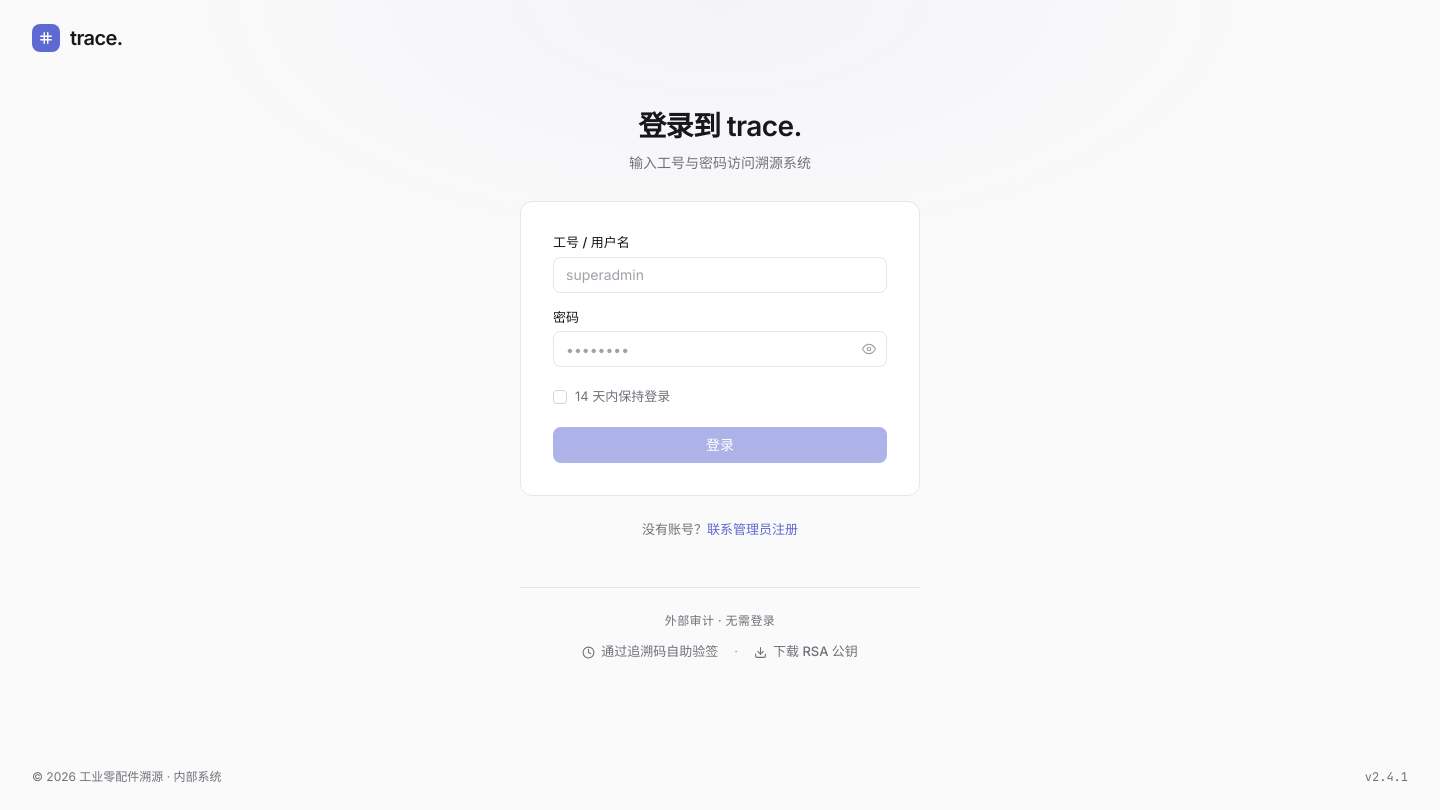
Scenario: Login view › shows inline error feedback when login fails
In the field labelled "工号 / 用户名": (720, 274) [554,258,886,292], type "admin"
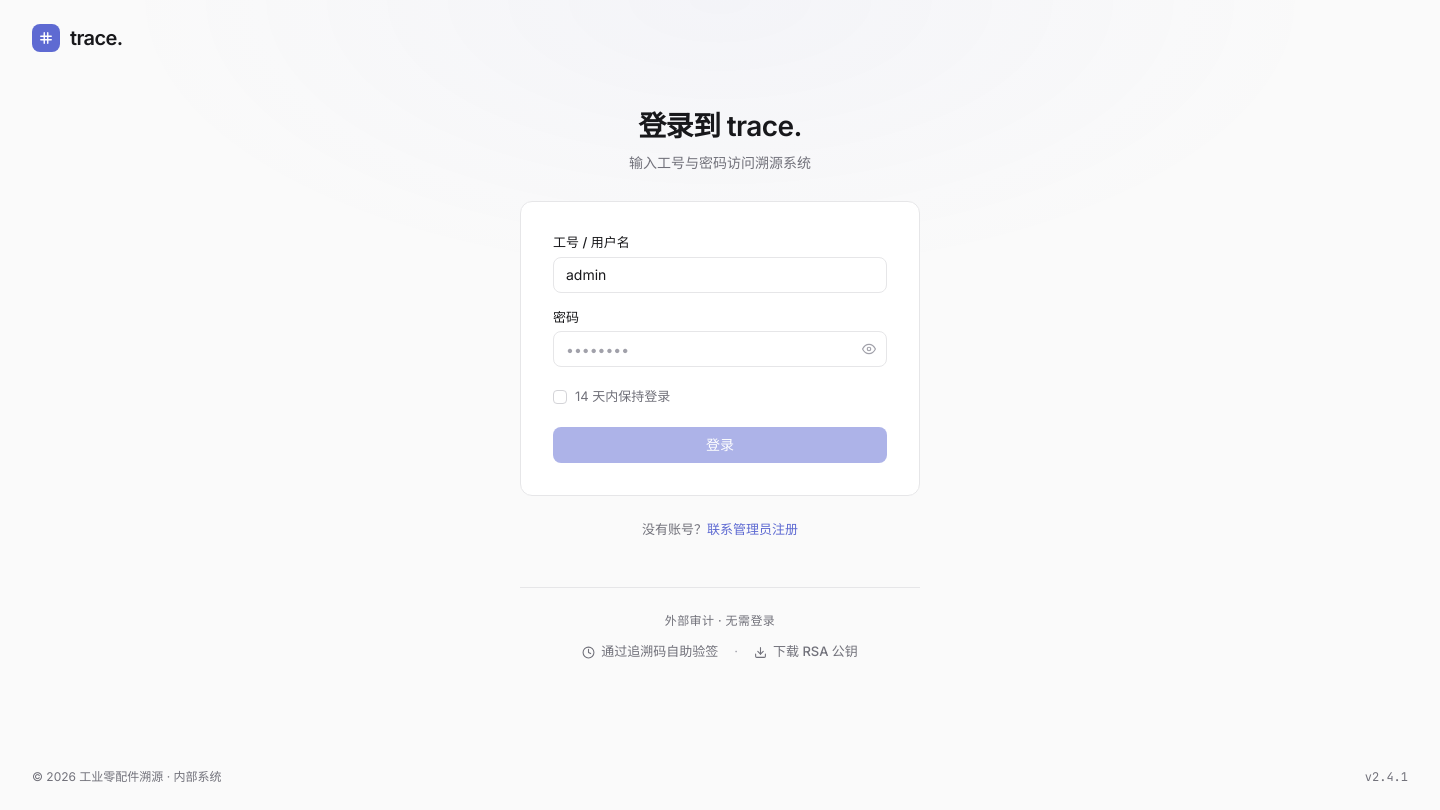
In the password field labelled "密码": (706, 349) [554,332,858,366], type "bad-pass"
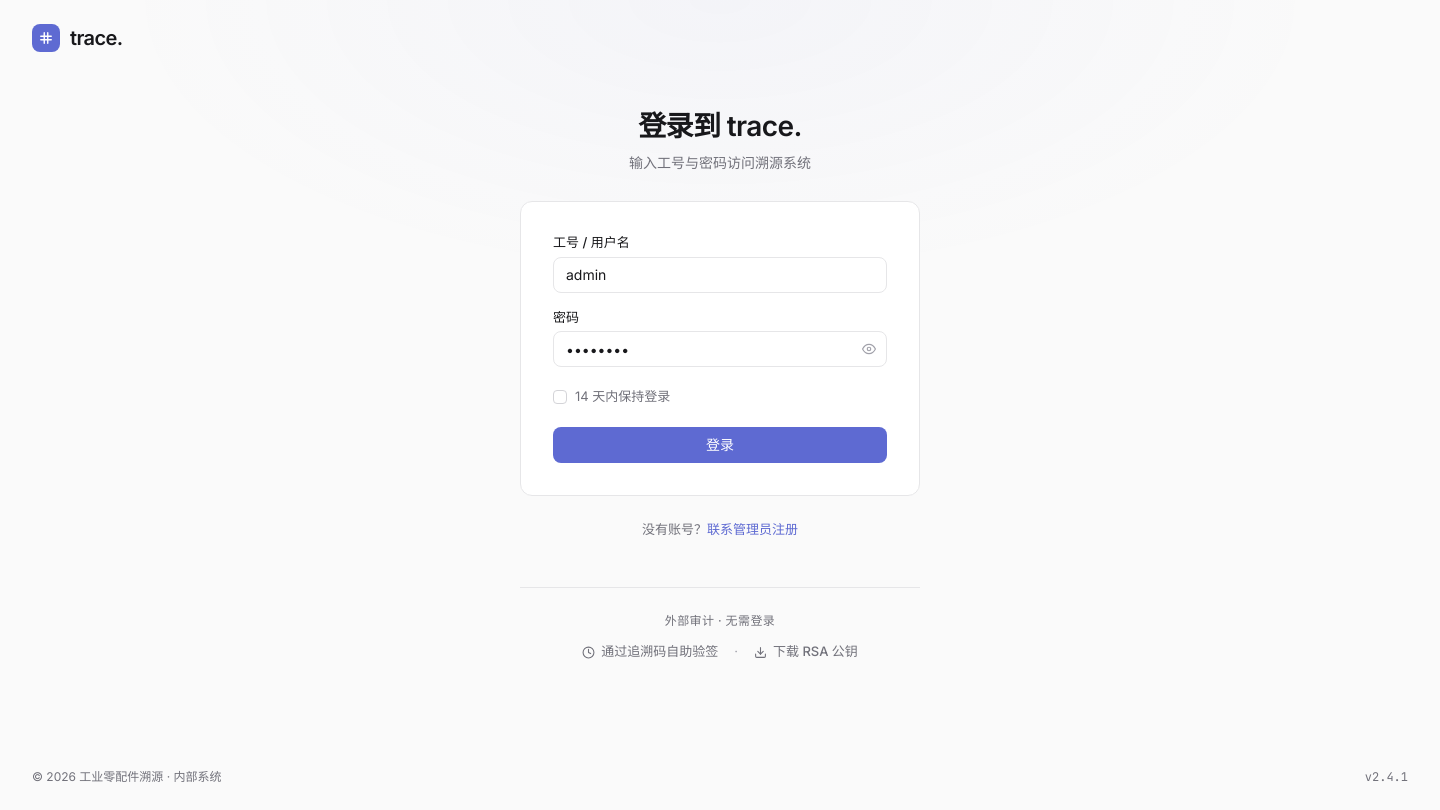
Submit the form, box [520,201,920,496]
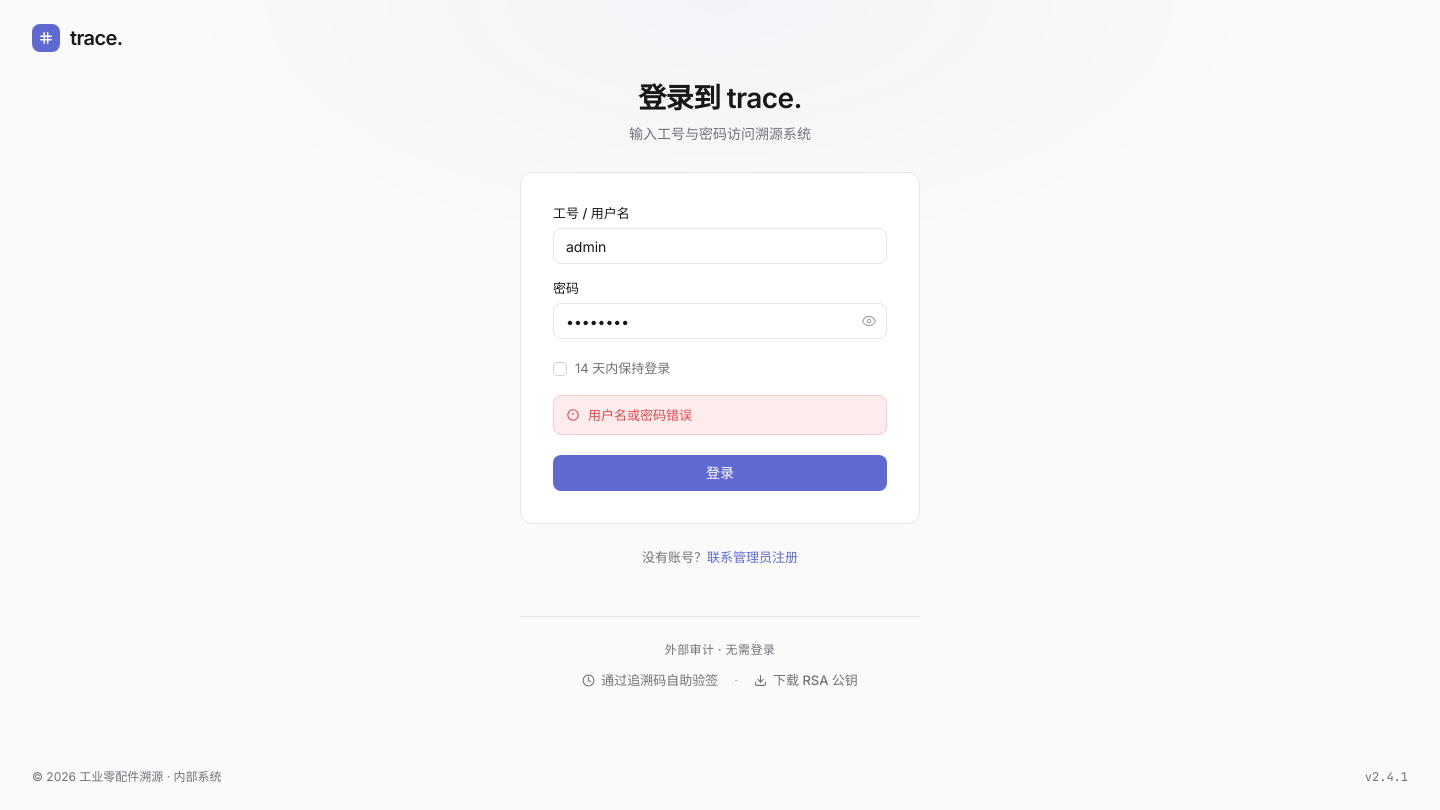
Expected: the message with test id "login-error" reads "用户名或密码错误", [588,406,692,422]
